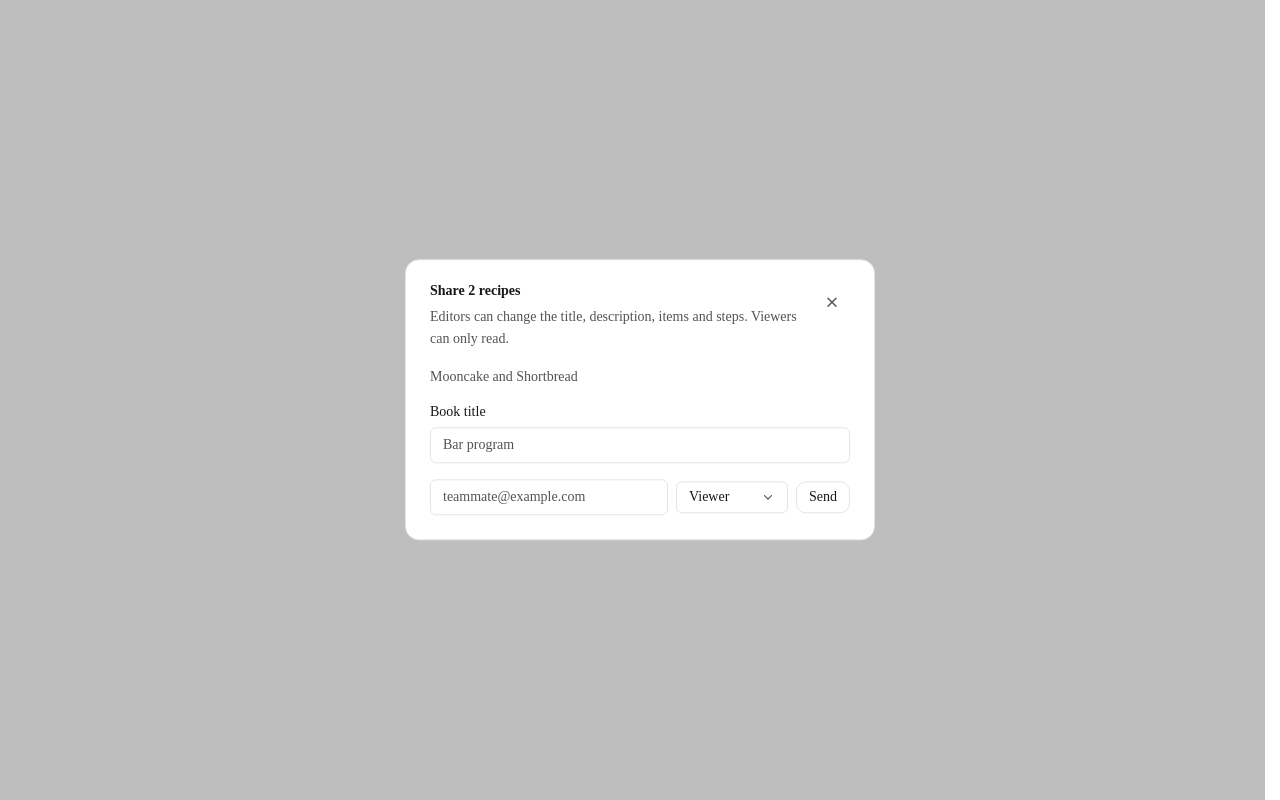
Test: sharing a selection of recipes › shows a refusal instead of a toast, and stays open
The width and height of the screenshot is (1280, 800).
Type "chef@example.com" into the field with placeholder "teammate@example.com". click: (549, 498)
box: [430,480,668,516]
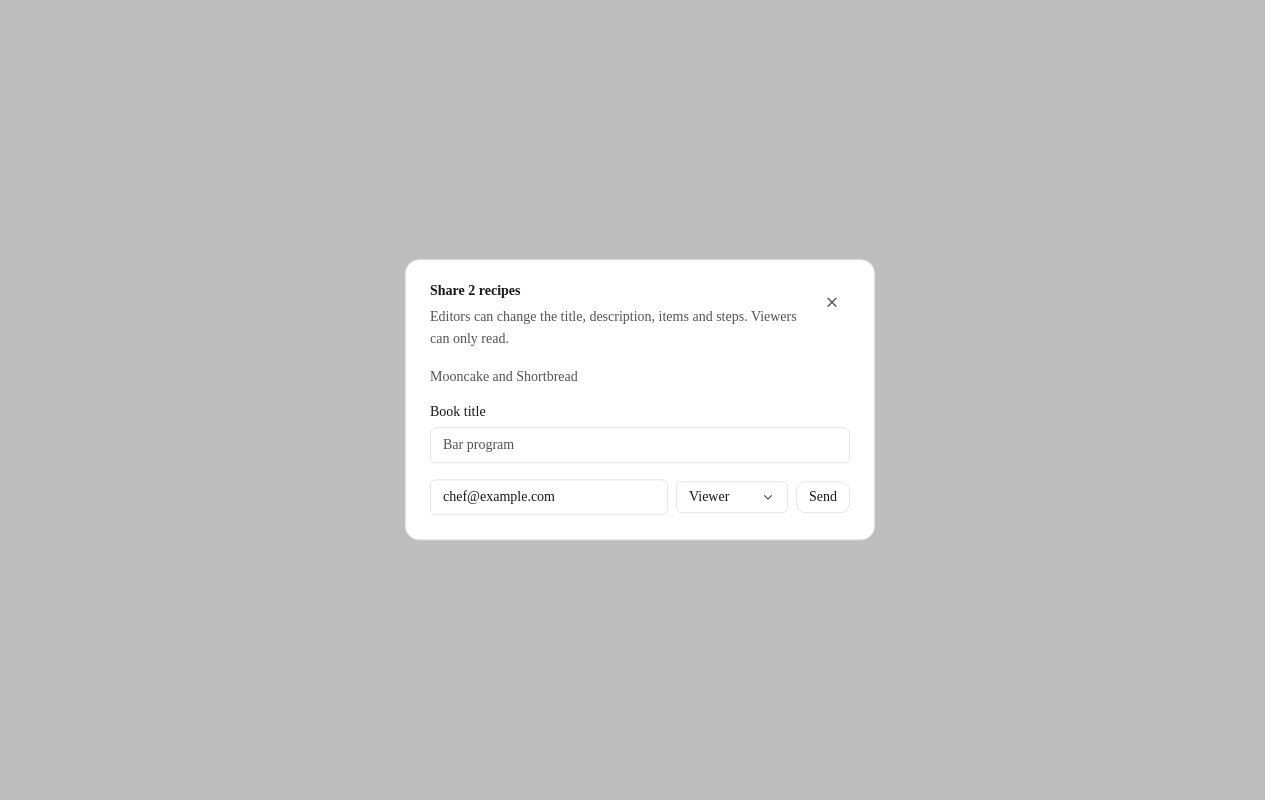
Click the button "Send". click: (823, 498)
box: [796,482,850,514]
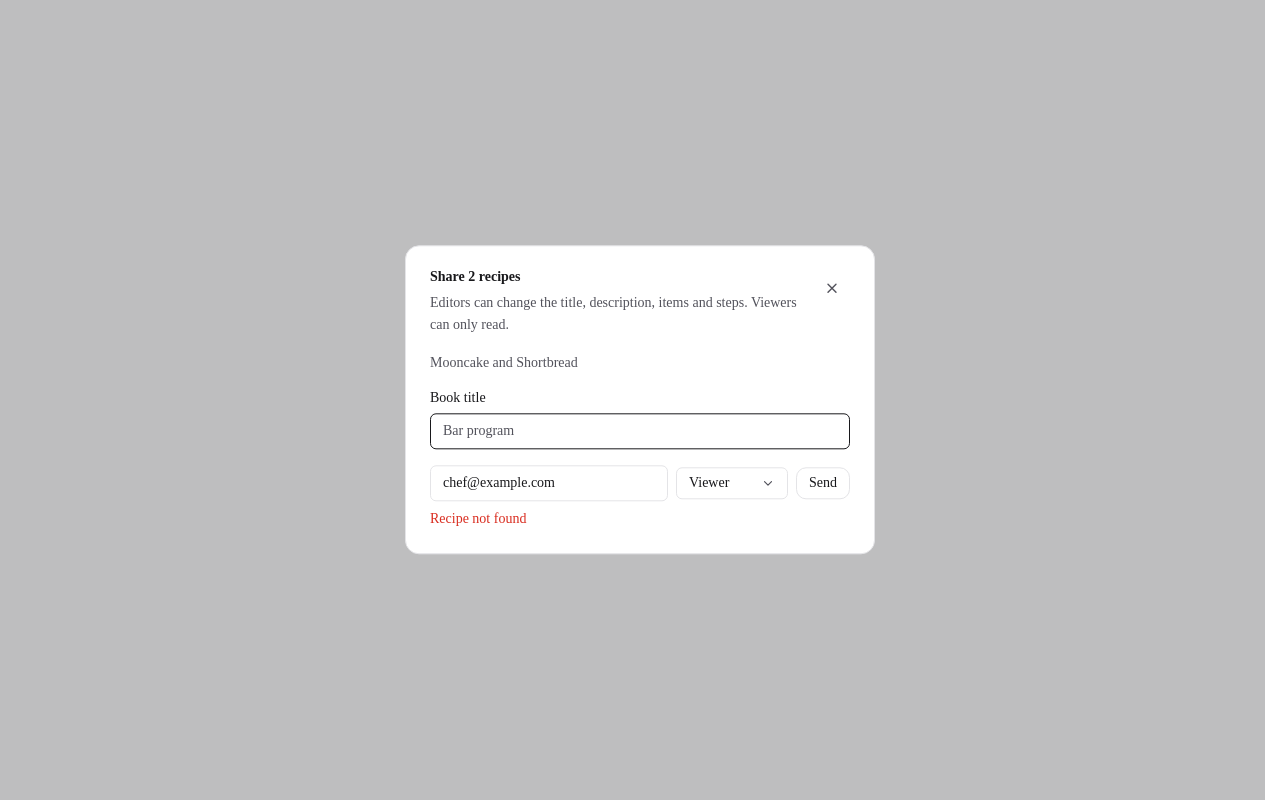
Now the message reads "Recipe not found", box [430,512,526,527]
